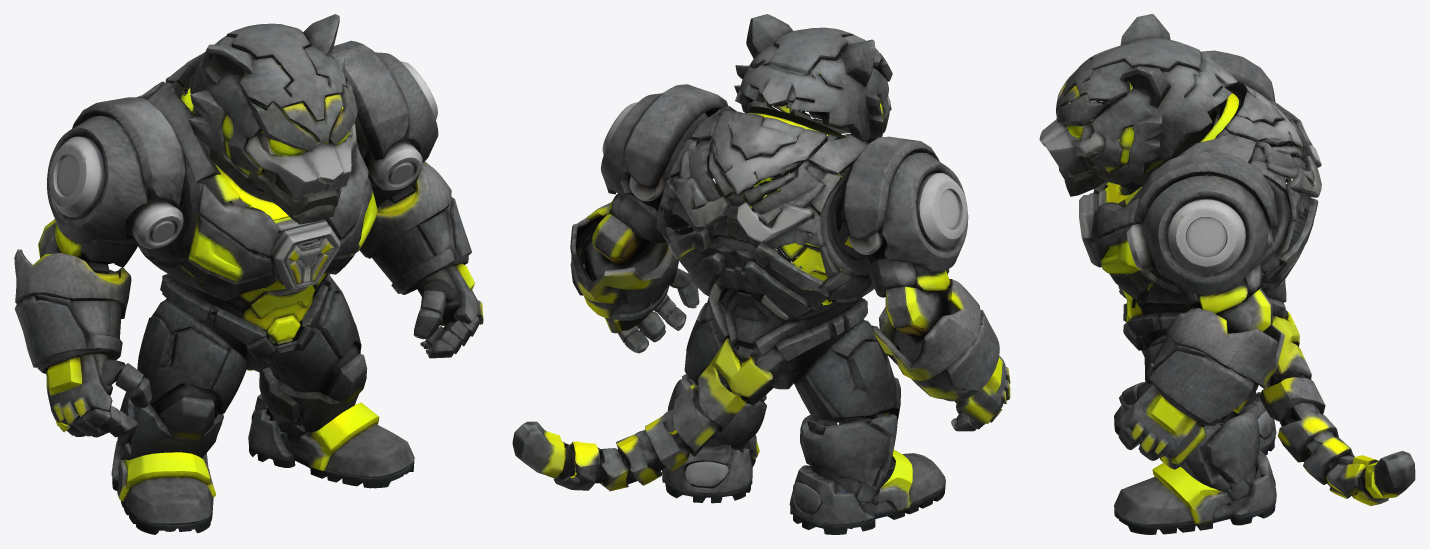
The model's file is tigravolt_raw.glb.
3 renders of one model, left to right at view 1: azimuth 30°, elevation 25°; view 2: azimuth 150°, elevation 25°; view 3: azimuth 270°, elevation 25°, orthographic. The views are drawn at different scales.
Visible parts, largest first — view 1: Statue_Textured; view 2: Statue_Textured; view 3: Statue_Textured.
Part boxes in pixels (box(x1,y1,x2,y2)): Statue_Textured: box(14, 14, 483, 534); Statue_Textured: box(512, 14, 1010, 534); Statue_Textured: box(1039, 14, 1415, 534).
Bounding box in the file's own units: 1.53 × 1.6 × 1.26.
Materials: 1 (1 with a texture image).
